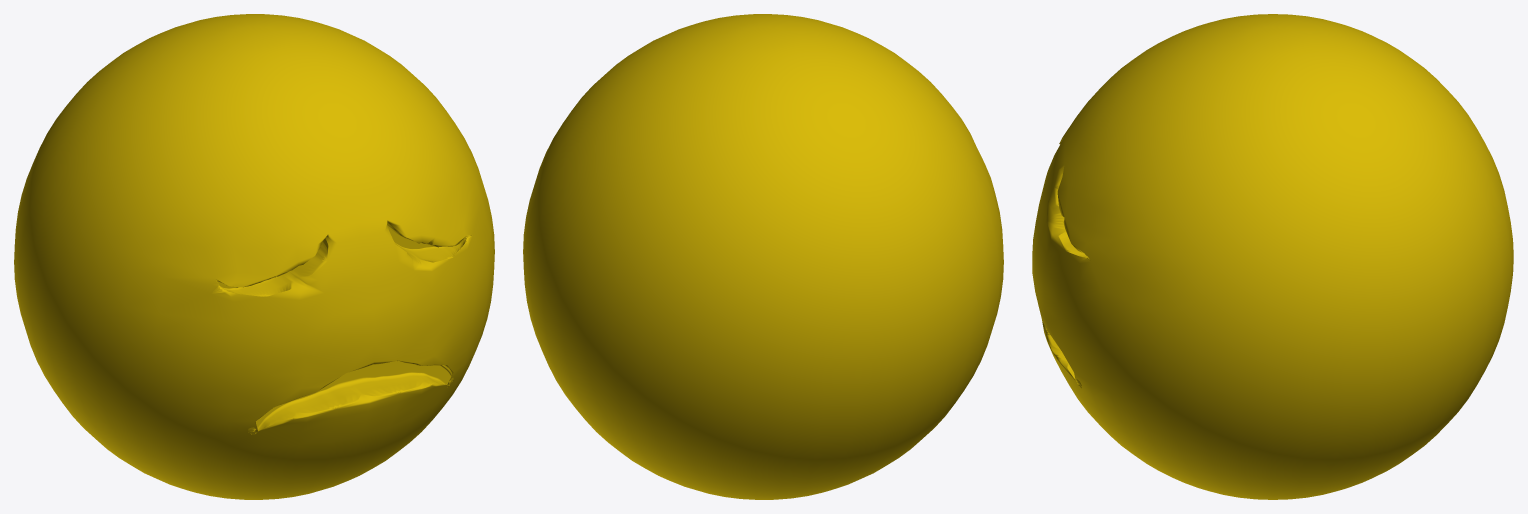
The model's file is sadTEST.fbx.
The picture shows the model from 3 angles, left to right: view 1: azimuth 30°, elevation 25°; view 2: azimuth 150°, elevation 25°; view 3: azimuth 270°, elevation 25°; orthographic projection.
Parts seen in each view (by area): view 1: pSphere2; view 2: pSphere2; view 3: pSphere2.
Part boxes in pixels (x1=…): pSphere2: x1=14, y1=14, x2=494, y2=499; pSphere2: x1=523, y1=14, x2=1003, y2=499; pSphere2: x1=1032, y1=14, x2=1513, y2=499.
Bounding box in the file's own units: 8.19 × 8.31 × 8.19.
